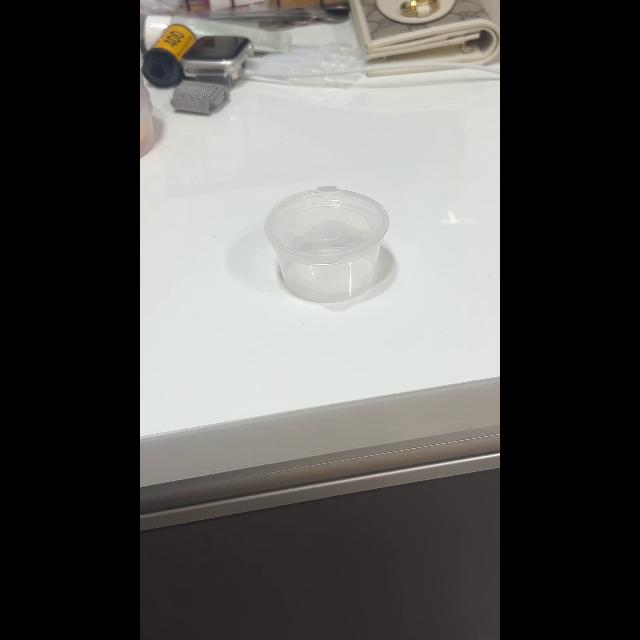clean: (262, 185, 390, 303)
